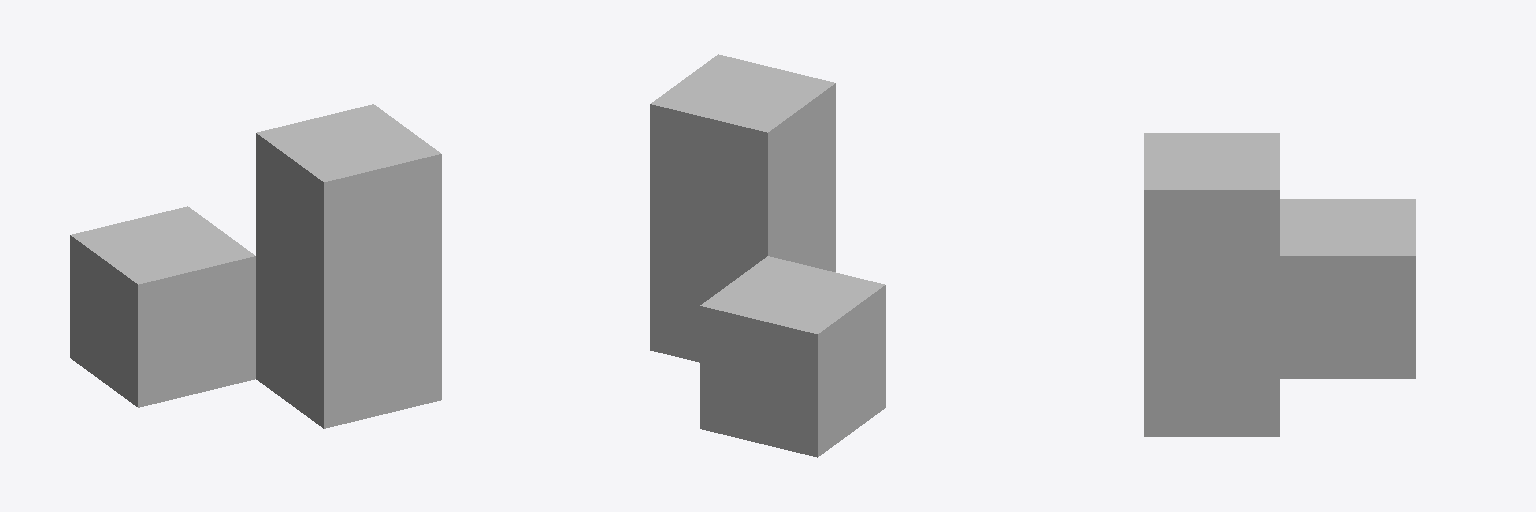
File: pineapple seed.obj
3 renders of one model, left to right at view 1: azimuth 30°, elevation 25°; view 2: azimuth 150°, elevation 25°; view 3: azimuth 270°, elevation 25°, orthographic.
Visible parts, largest first — view 1: object 1; view 2: object 1; view 3: object 1.
Boxes of the visible parts, <box> form: object 1: <box>70,104,441,428</box>; object 1: <box>650,54,885,457</box>; object 1: <box>1144,133,1415,436</box>.
Size of the model in its own units: 0.2 by 0.2 by 0.2.